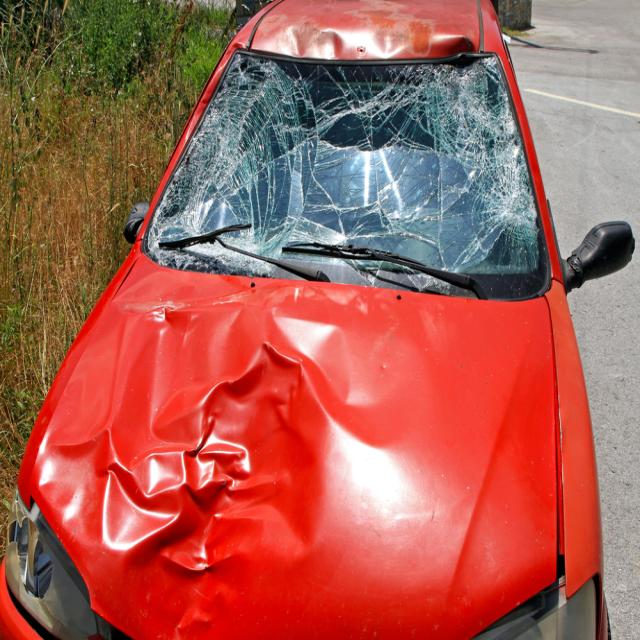dent: (40, 286, 433, 623), (253, 19, 470, 61)
glass shatter: (144, 51, 548, 299)
lamp broken: (6, 493, 102, 640)
